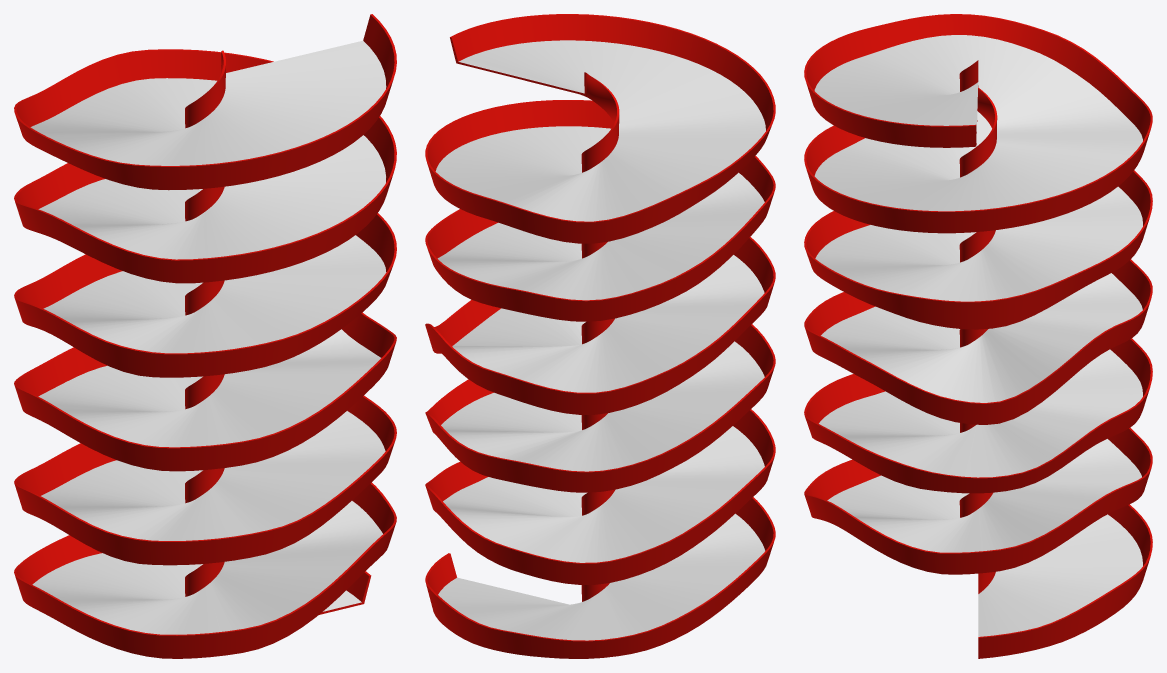
Rendered from T_CzTwirl_02.fbx.
3 views of the same model, side by side, from view 1: azimuth 30°, elevation 25°; view 2: azimuth 150°, elevation 25°; view 3: azimuth 270°, elevation 25° (orthographic). The views are drawn at different scales.
Parts seen in each view (by area): view 1: T_CzTwirl_P; view 2: T_CzTwirl_P; view 3: T_CzTwirl_P.
Part boxes in pixels (x1,y1,x2,y2): T_CzTwirl_P: (14, 14, 396, 658); T_CzTwirl_P: (425, 14, 775, 658); T_CzTwirl_P: (804, 14, 1152, 658).
Size of the model in its own units: 2206 by 3744 by 2206.
